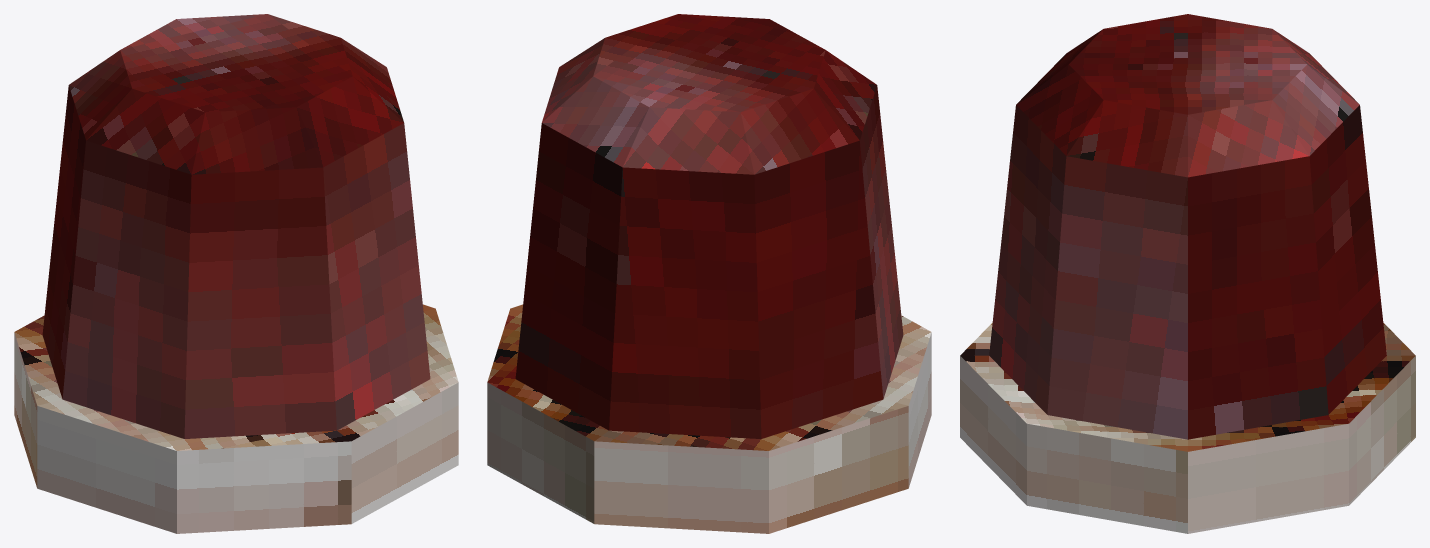
The model's file is lamps2.fbx.
The picture shows the model from 3 angles, left to right: view 1: azimuth 30°, elevation 25°; view 2: azimuth 150°, elevation 25°; view 3: azimuth 270°, elevation 25°; orthographic projection.
Visible parts, largest first — view 1: alarm; view 2: alarm; view 3: alarm.
Boxes of the visible parts, x1,y1,x2,y2 form: alarm: (14, 14, 458, 533); alarm: (487, 14, 931, 533); alarm: (960, 14, 1415, 533).
Bounding box in the file's own units: 12.74 × 11.52 × 12.74.
Materials: 2 (2 with a texture image).
